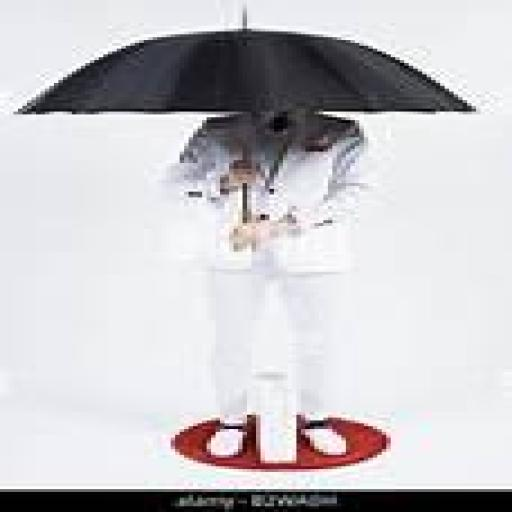guarda_chuva: (9, 0, 476, 235)
